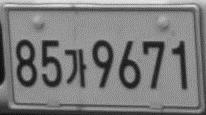1: (170, 39, 189, 89)
5: (40, 39, 61, 87)
6: (117, 39, 141, 89)
7: (142, 40, 165, 88)
8: (14, 38, 37, 87)
9: (91, 39, 113, 89)
가: (63, 47, 86, 88)
